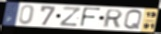0: (18, 4, 36, 26)
7: (39, 5, 57, 26)
F: (79, 7, 102, 28)
Q: (123, 9, 144, 31)
R: (101, 9, 124, 28)
Z: (58, 6, 82, 27)
